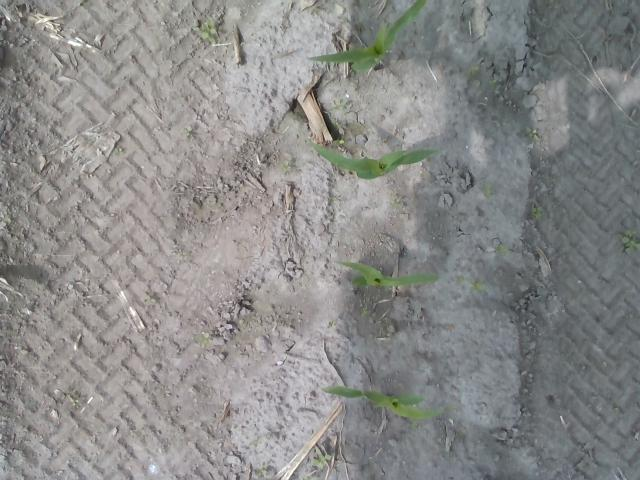Maize: (304, 1, 428, 74), (303, 136, 446, 181), (336, 258, 440, 296), (320, 388, 442, 418)
Weeds: (198, 20, 220, 42), (620, 231, 639, 253), (310, 452, 330, 468), (524, 128, 538, 141), (256, 466, 269, 478), (196, 332, 208, 345), (470, 281, 484, 292), (531, 206, 544, 216), (466, 66, 479, 76), (180, 126, 191, 136), (496, 245, 506, 256), (144, 295, 156, 304), (359, 307, 368, 318), (280, 161, 290, 170), (333, 139, 345, 146)
